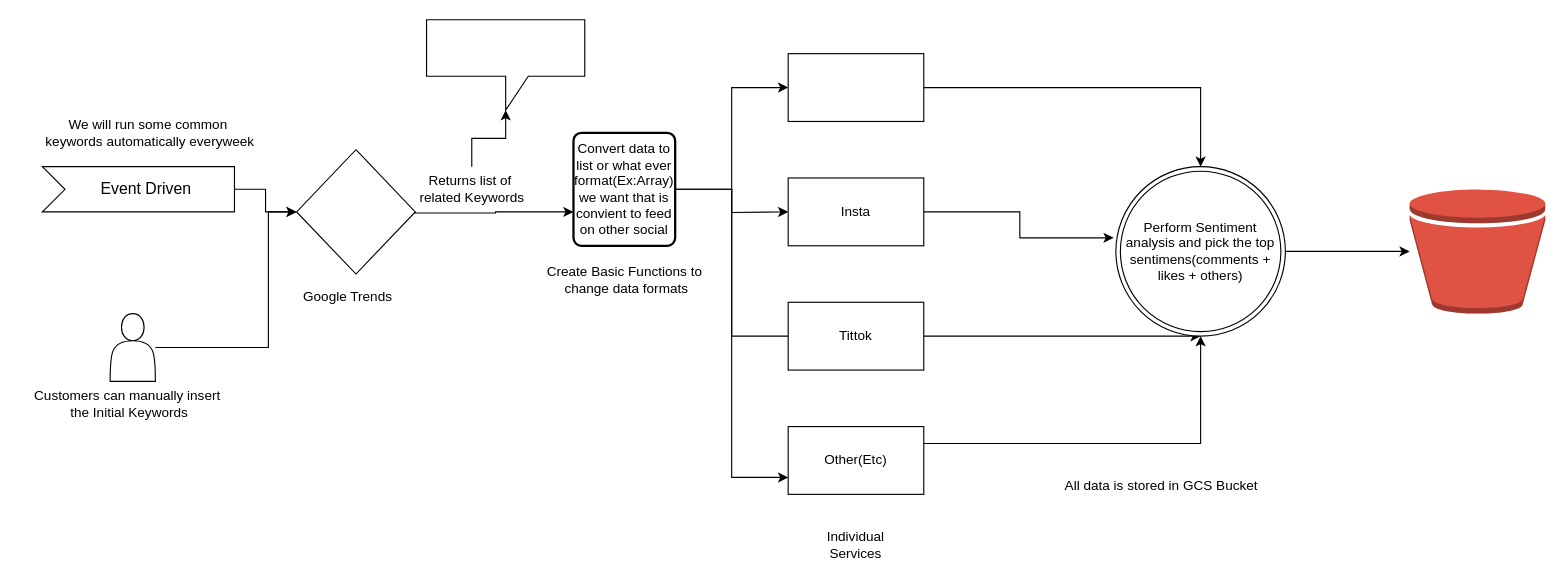
The diagram is 1565 pixels wide and 582 high, and some of its shapes have lost their labels. Each missing label, with the box of its shape:
Keyword as input to Google: (295, 149, 415, 274)
Keywords should be in Dictionary Format: (425, 19, 585, 110)
Youtube: (787, 53, 924, 121)
